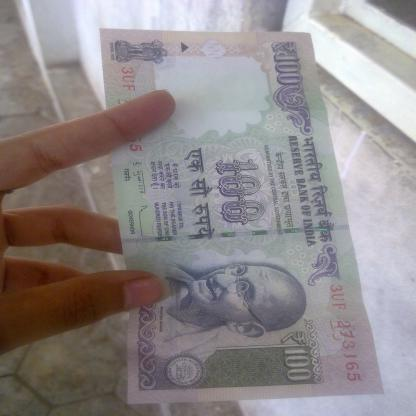Old100Front: (98, 0, 384, 406)
